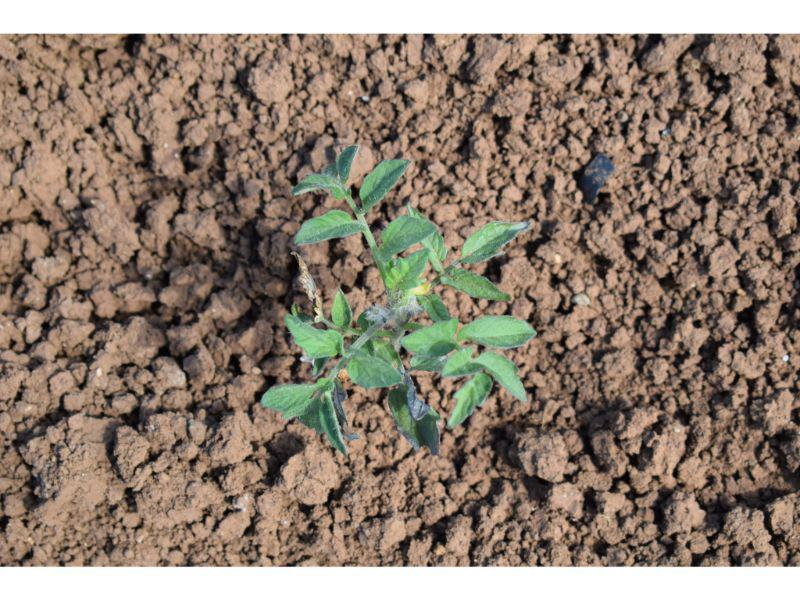tomato: (262, 142, 536, 454)
